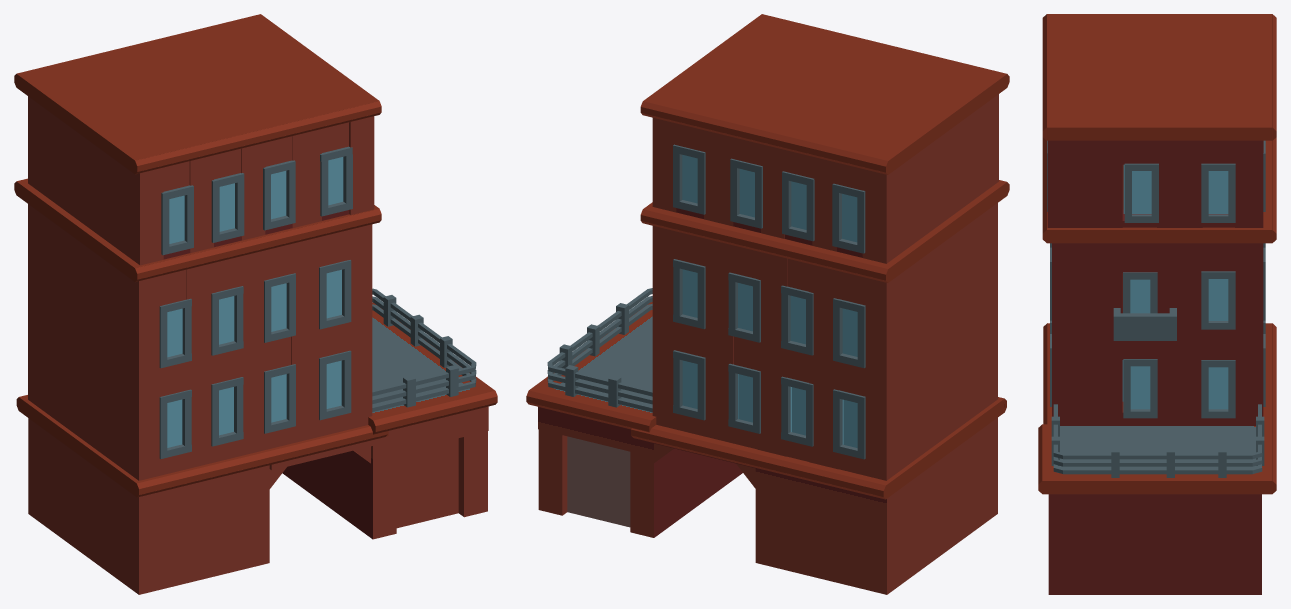
Rendered from build1.gltf.
3 views of the same model, side by side, from view 1: azimuth 30°, elevation 25°; view 2: azimuth 150°, elevation 25°; view 3: azimuth 270°, elevation 25° (orthographic). The views are drawn at different scales.
Visible parts, largest first — view 1: cube (×42); view 2: cube (×43); view 3: cube (×45).
Boxes of the visible parts, x1=… form: cube (×42): x1=16, y1=14, x2=497, y2=594; cube (×43): x1=526, y1=14, x2=1007, y2=594; cube (×45): x1=1042, y1=14, x2=1276, y2=594.
Size of the model in its own units: 20.9 by 24.41 by 12.66.
Materials: 1 (1 with a texture image).
